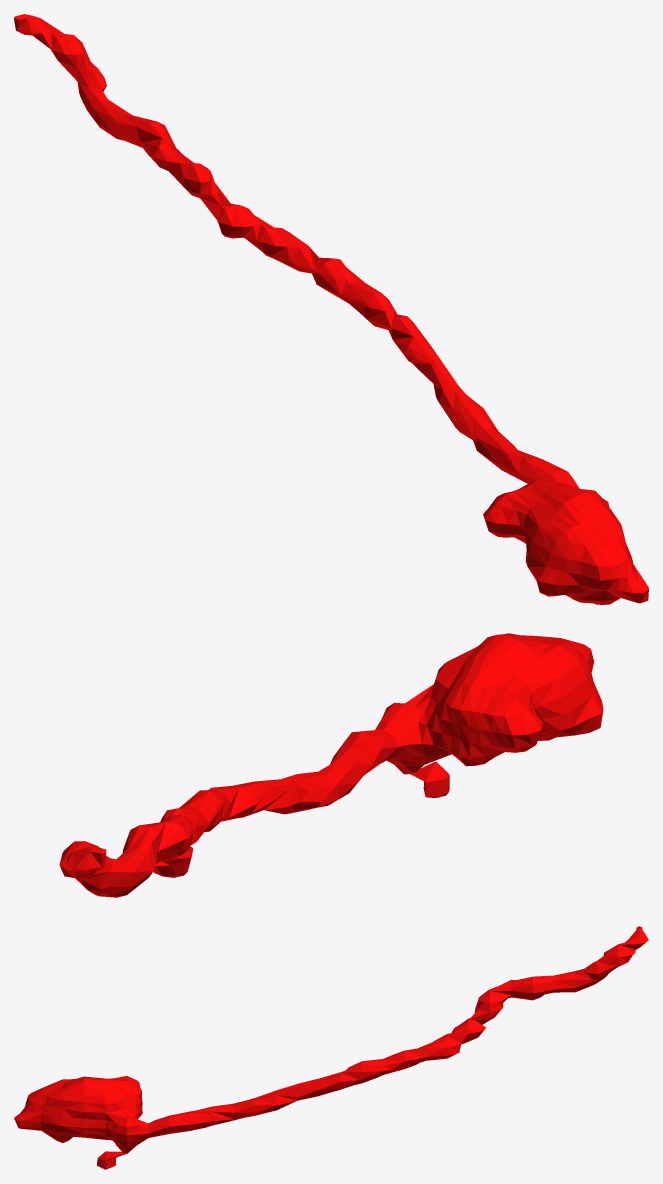
File: speD_coarse.dae
3 renders of one model, top to bottom at view 1: azimuth 30°, elevation 25°; view 2: azimuth 150°, elevation 25°; view 3: azimuth 270°, elevation 25°, orthographic. The views are drawn at different scales.
Visible parts, largest first — view 1: speD; view 2: speD; view 3: speD.
Boxes of the visible parts, x1=… form: speD: x1=14, y1=14, x2=648, y2=604; speD: x1=59, y1=633, x2=603, y2=897; speD: x1=14, y1=926, x2=648, y2=1169.
Bounding box in the file's own units: 67.48 × 107 × 315.
